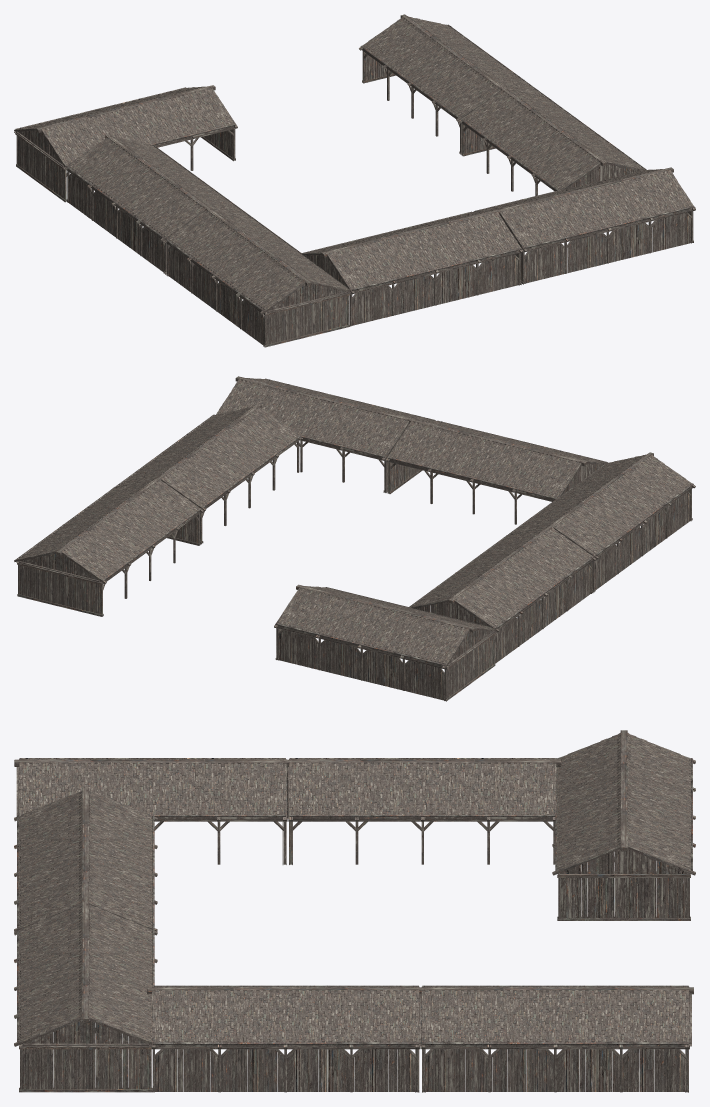
File: house_farm_-_20mb.glb
The picture shows the model from 3 angles, top to bottom: view 1: azimuth 30°, elevation 25°; view 2: azimuth 150°, elevation 25°; view 3: azimuth 270°, elevation 25°; orthographic projection. The views are drawn at different scales.
Parts seen in each view (by area): view 1: House_Farm_wood_4, House_Farm_wood_3, House_Farm_wood_2, House_Farm_wood_5, House_Farm_wood_6, House_Farm_wood_1, House_Farm_wood; view 2: House_Farm_wood_6, House_Farm_wood, House_Farm_wood_5, House_Farm_wood_4, House_Farm_wood_3, House_Farm_wood_1, House_Farm_wood_2; view 3: House_Farm_wood, House_Farm_wood_1, House_Farm_wood_6, House_Farm_wood_2, House_Farm_wood_5, House_Farm_wood_3, House_Farm_wood_4.
Boxes of the visible parts, x1=… form: House_Farm_wood_4: x1=163, y1=207, x2=350, y2=347; House_Farm_wood_3: x1=301, y1=210, x2=523, y2=326; House_Farm_wood_2: x1=472, y1=167, x2=695, y2=284; House_Farm_wood_5: x1=63, y1=134, x2=252, y2=274; House_Farm_wood_6: x1=14, y1=85, x2=237, y2=202; House_Farm_wood_1: x1=458, y1=88, x2=646, y2=195; House_Farm_wood: x1=359, y1=14, x2=548, y2=154; House_Farm_wood_6: x1=274, y1=584, x2=496, y2=701; House_Farm_wood: x1=14, y1=479, x2=203, y2=616; House_Farm_wood_5: x1=409, y1=525, x2=596, y2=663; House_Farm_wood_4: x1=506, y1=452, x2=695, y2=592; House_Farm_wood_3: x1=386, y1=418, x2=607, y2=524; House_Farm_wood_1: x1=113, y1=404, x2=302, y2=544; House_Farm_wood_2: x1=216, y1=376, x2=435, y2=492; House_Farm_wood: x1=417, y1=985, x2=693, y2=1092; House_Farm_wood_1: x1=147, y1=985, x2=423, y2=1092; House_Farm_wood_6: x1=552, y1=730, x2=695, y2=920; House_Farm_wood_2: x1=14, y1=901, x2=157, y2=1092; House_Farm_wood_5: x1=284, y1=758, x2=561, y2=864; House_Farm_wood_3: x1=14, y1=787, x2=157, y2=931; House_Farm_wood_4: x1=14, y1=758, x2=291, y2=864.
Size of the model in its own units: 51.87 by 6.38 by 51.75.
1 material, 1 textured.
